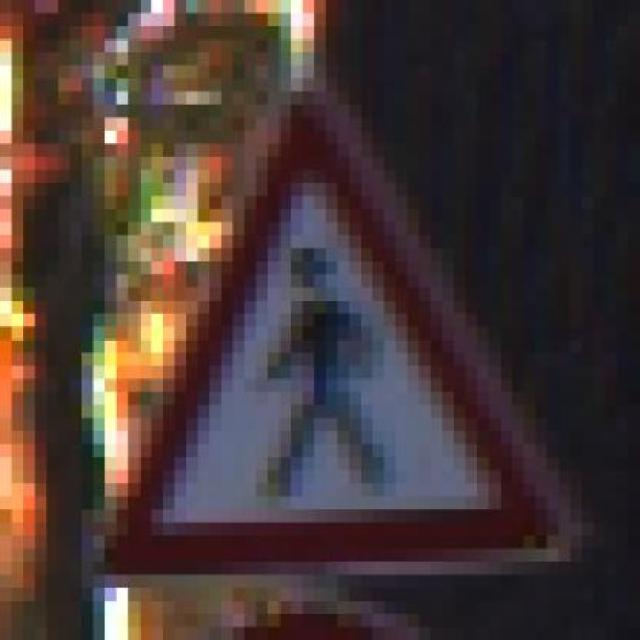Pedestrian Crossing: (70, 90, 605, 588)
